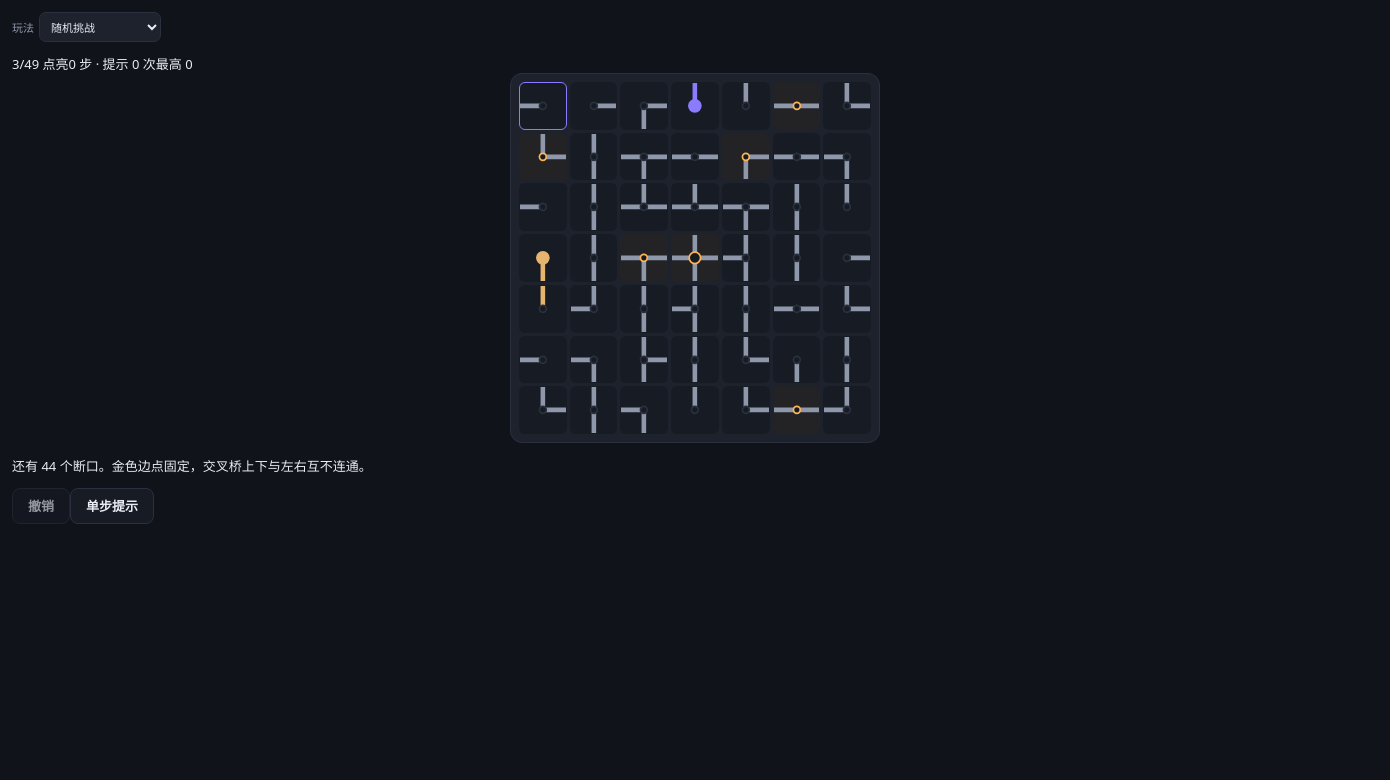
扩展玩法、旧进度和章节隔离 › 接线随机玩法恢复后不会当成章节，旧随机存档保留入口
The image size is (1390, 780).
Step 1. Select "经典随机 · 旧进度" in the dropdown labelled "玩法" → (100, 27), box [39,12,161,42]
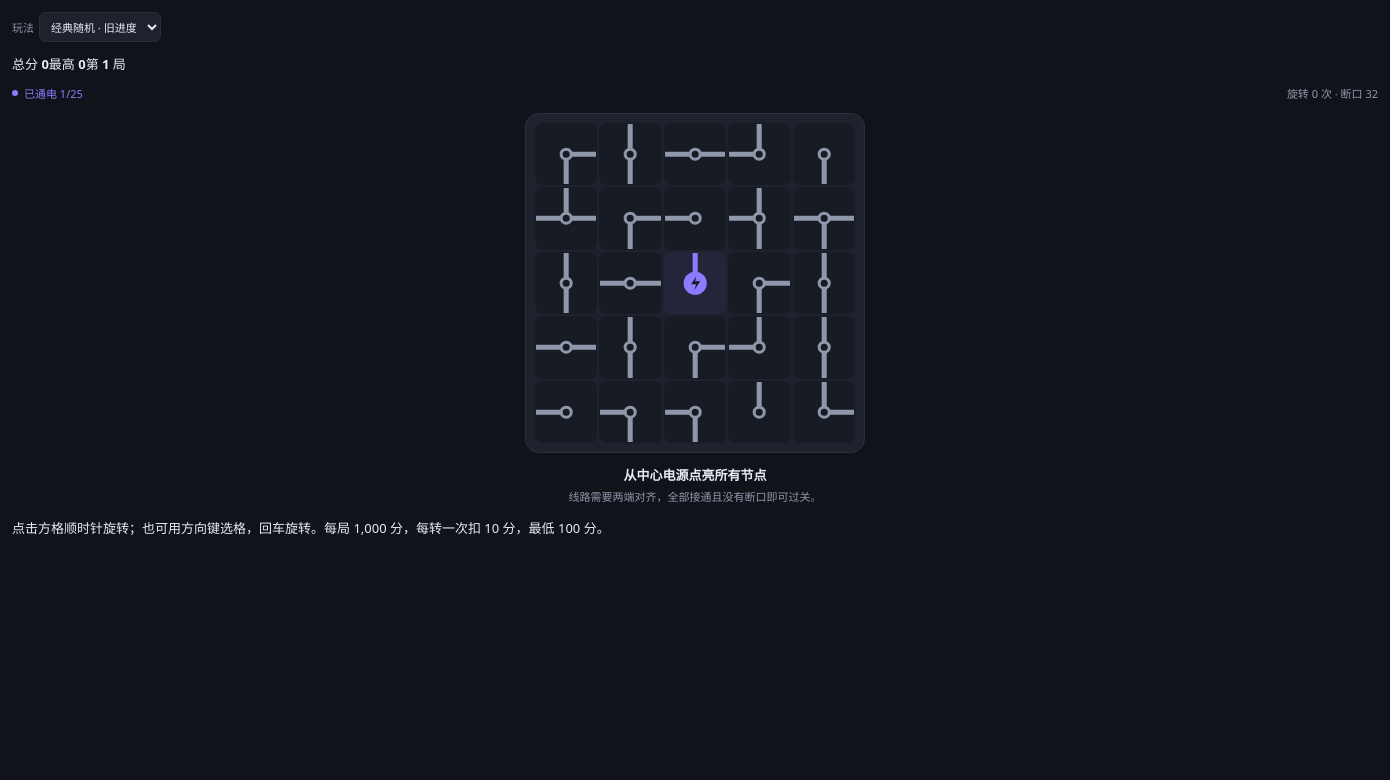
Check: the element with class "wiring-game" is shown
